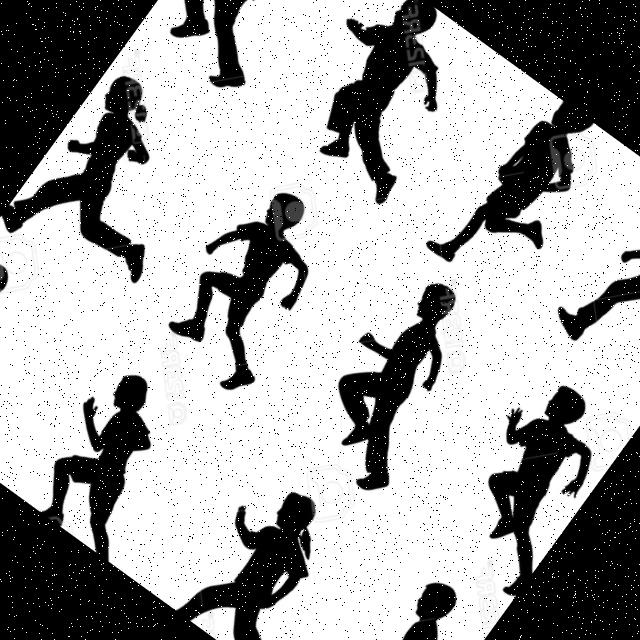Person: (0, 64, 233, 312), (288, 261, 504, 500), (422, 366, 634, 599), (145, 171, 357, 401), (270, 0, 493, 206), (18, 356, 222, 571), (423, 85, 618, 302), (157, 461, 377, 640), (548, 170, 640, 401), (136, 0, 345, 98), (0, 245, 81, 465), (313, 564, 497, 640)
